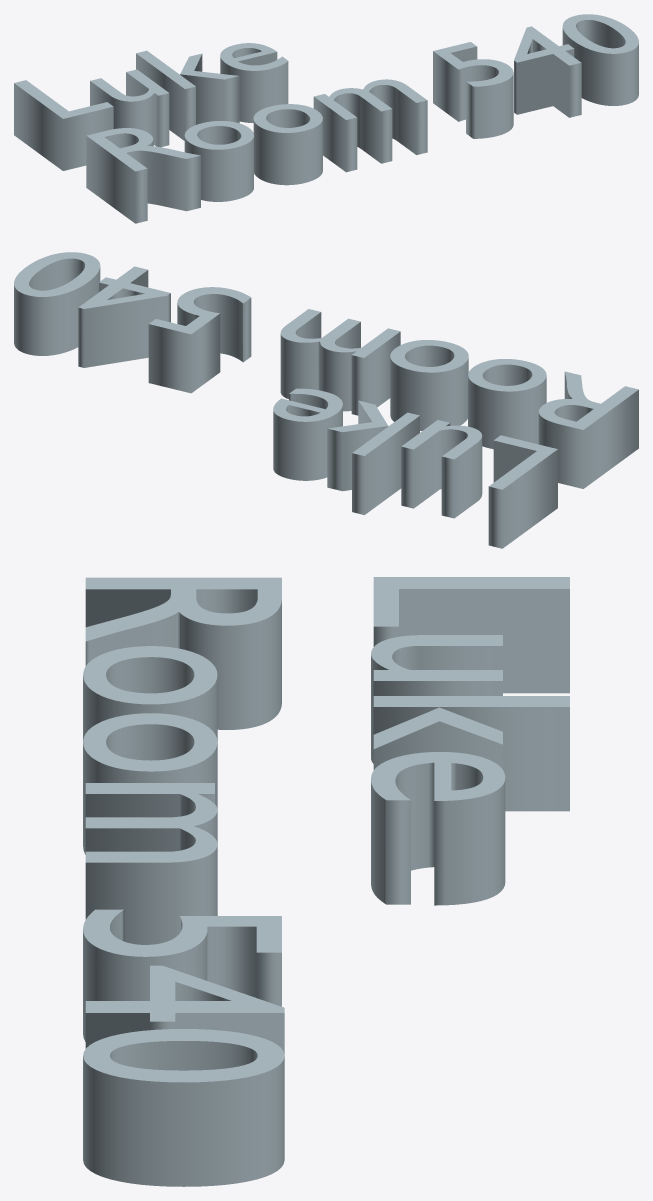
Rendered from luke-540.gltf.
3 renders of one model, top to bottom at view 1: azimuth 30°, elevation 25°; view 2: azimuth 150°, elevation 25°; view 3: azimuth 270°, elevation 25°, orthographic. The views are drawn at different scales.
Visible parts, largest first — view 1: Text; view 2: Text; view 3: Text.
Part boxes in pixels (x1,y1,x2,y2): Text: (14,14,638,223); Text: (14,252,638,548); Text: (83,577,569,1186).
Size of the model in its own units: 4.15 by 0.4 by 1.69.
